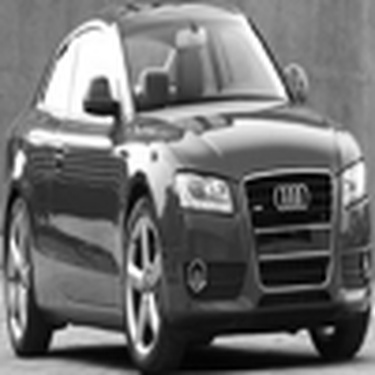car: (1, 4, 370, 371)
